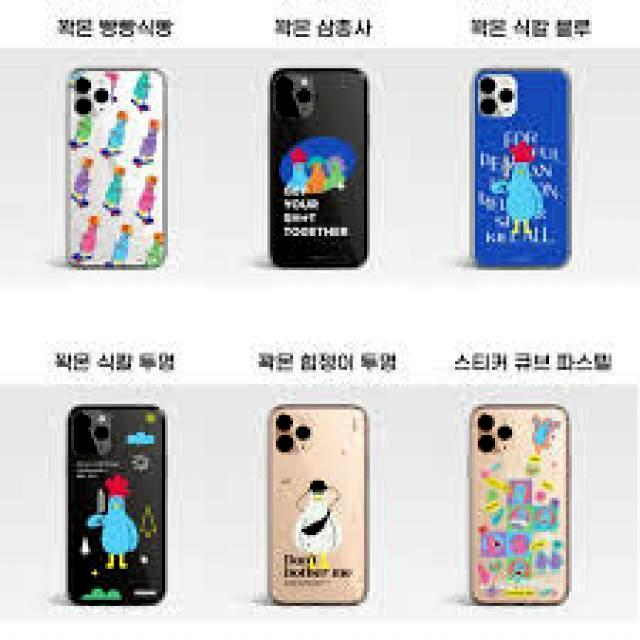lens_back: (474, 428, 498, 458), (273, 429, 296, 457), (292, 84, 314, 110), (273, 94, 299, 116), (472, 408, 495, 431), (72, 94, 94, 118), (493, 420, 515, 444), (91, 84, 113, 106), (274, 411, 296, 433), (72, 75, 94, 96), (480, 98, 502, 119), (294, 419, 312, 444), (71, 414, 93, 434), (479, 73, 497, 97), (274, 74, 296, 93), (73, 434, 95, 452), (92, 422, 109, 445), (498, 86, 517, 104)
phone: (465, 402, 573, 608), (469, 67, 575, 273), (267, 406, 371, 607), (66, 67, 169, 268), (67, 405, 170, 605), (269, 68, 371, 267)
